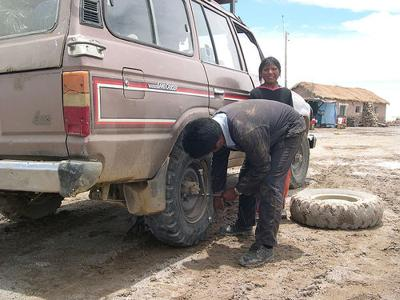person: (182, 98, 308, 270)
